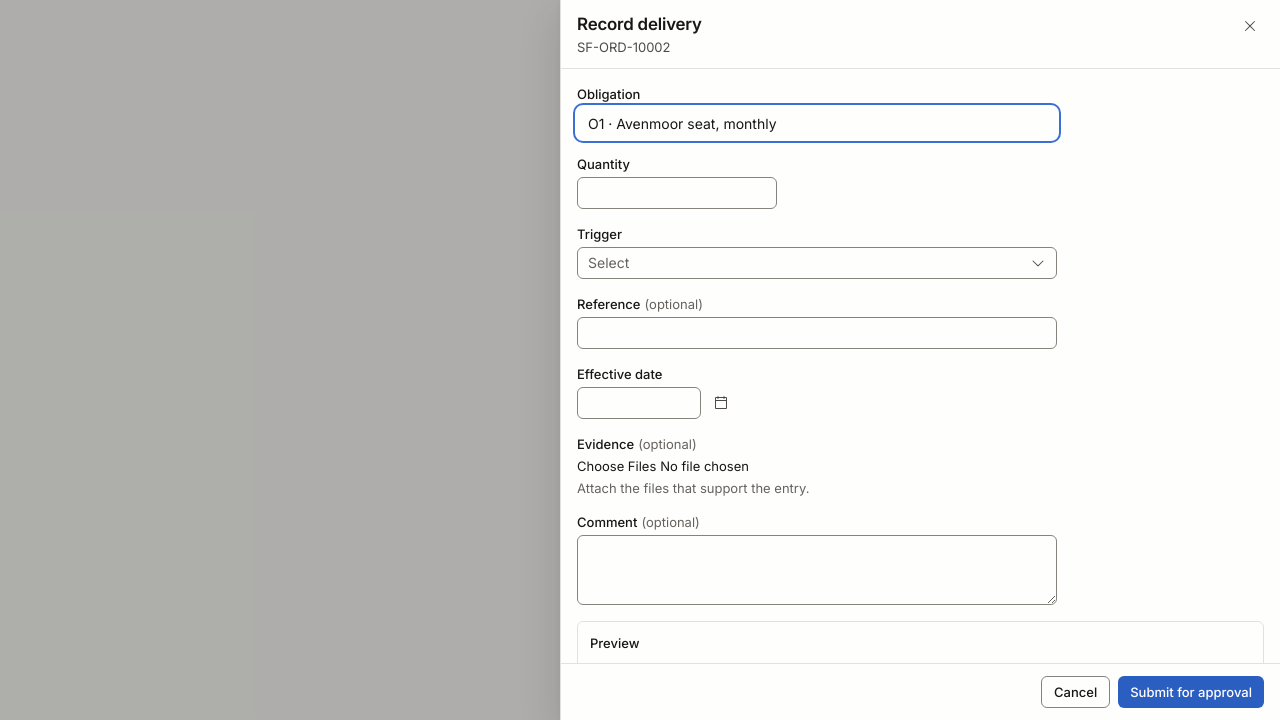
Test: SF-03 Record event: what the preview panel says of its dry run › a failed dry run shows the banner of a failed job with the problem's title, the reference and Retry, and no sentence about figures
The image size is (1280, 720).
expect the element "Preview" reads "Preview The preview appears once the fields are valid.": met, box [577,621,1264,663]
Type "120" into the field labelled "Quantity" at (677, 193), box [577,177,777,209]
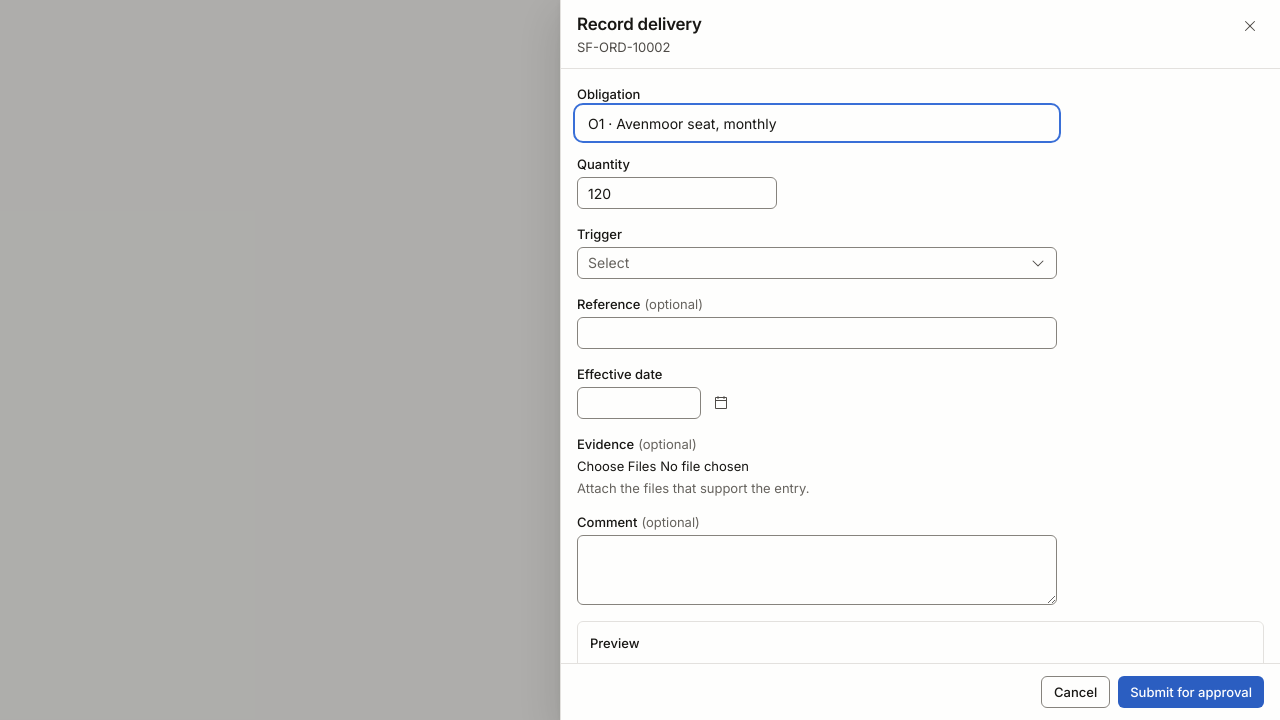
Click the dropdown named "Trigger" at (817, 263), box [577,247,1057,279]
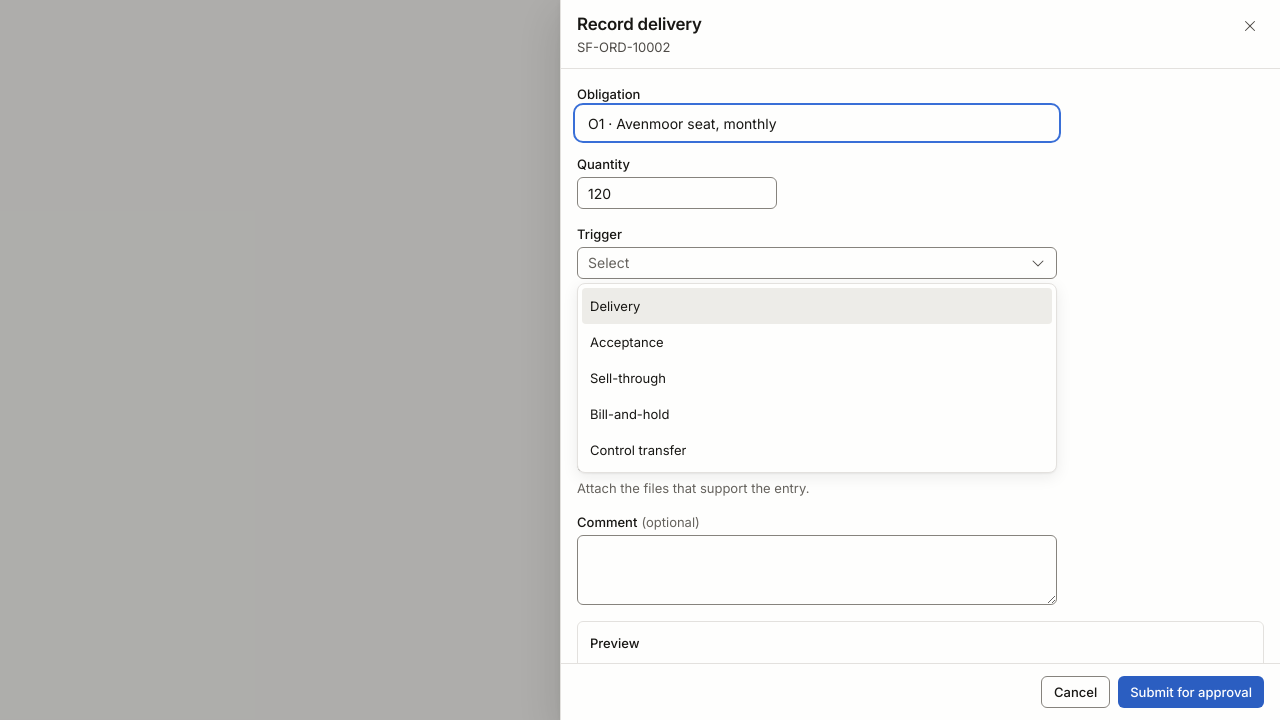
Press the mouse on the option "Delivery" at (615, 306), box [582,288,1052,324]
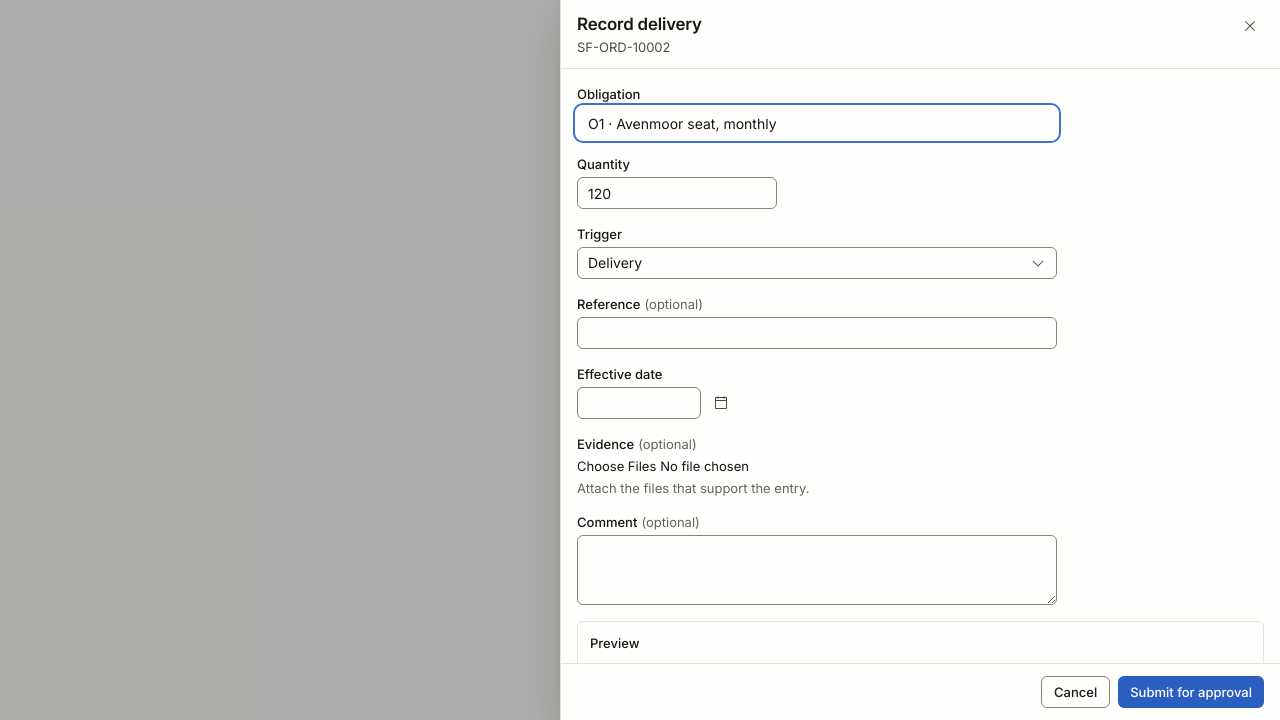
Type "30 Sep 2026" into the field labelled "Effective date" at (639, 403), box [577,387,701,419]
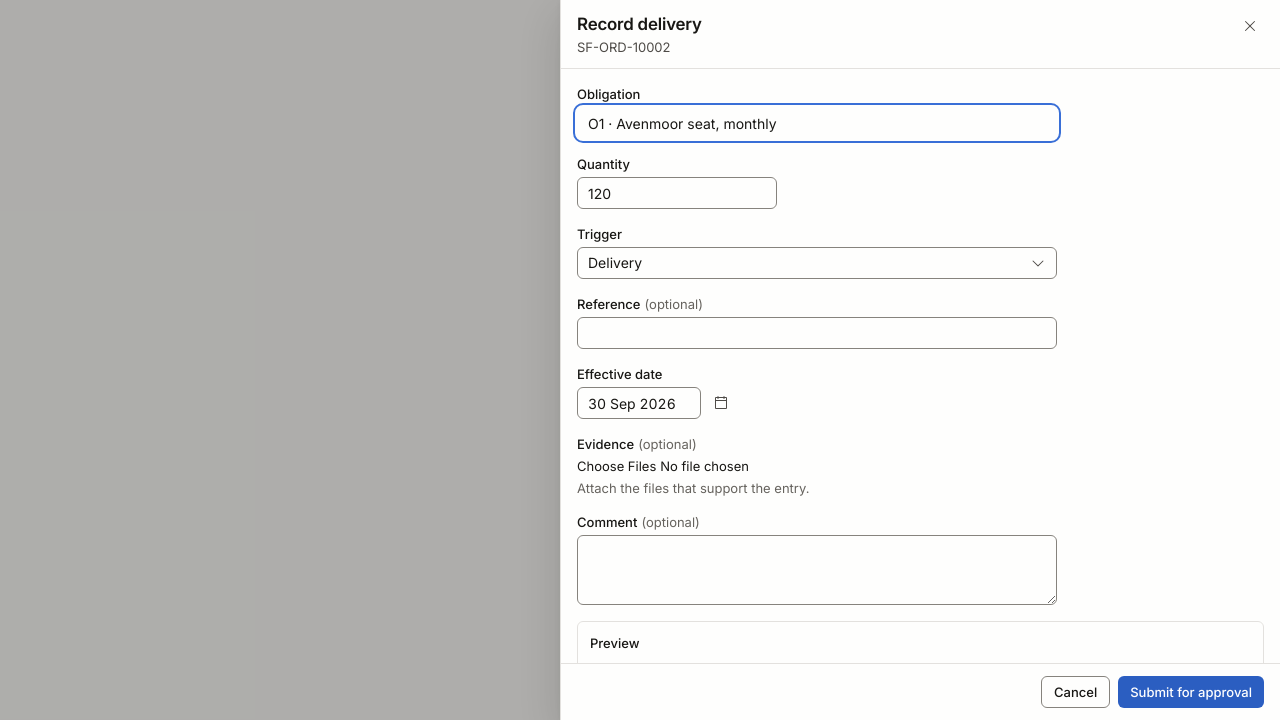
Leave the field labelled "Effective date", box [577,387,701,419]
(page scrolled)
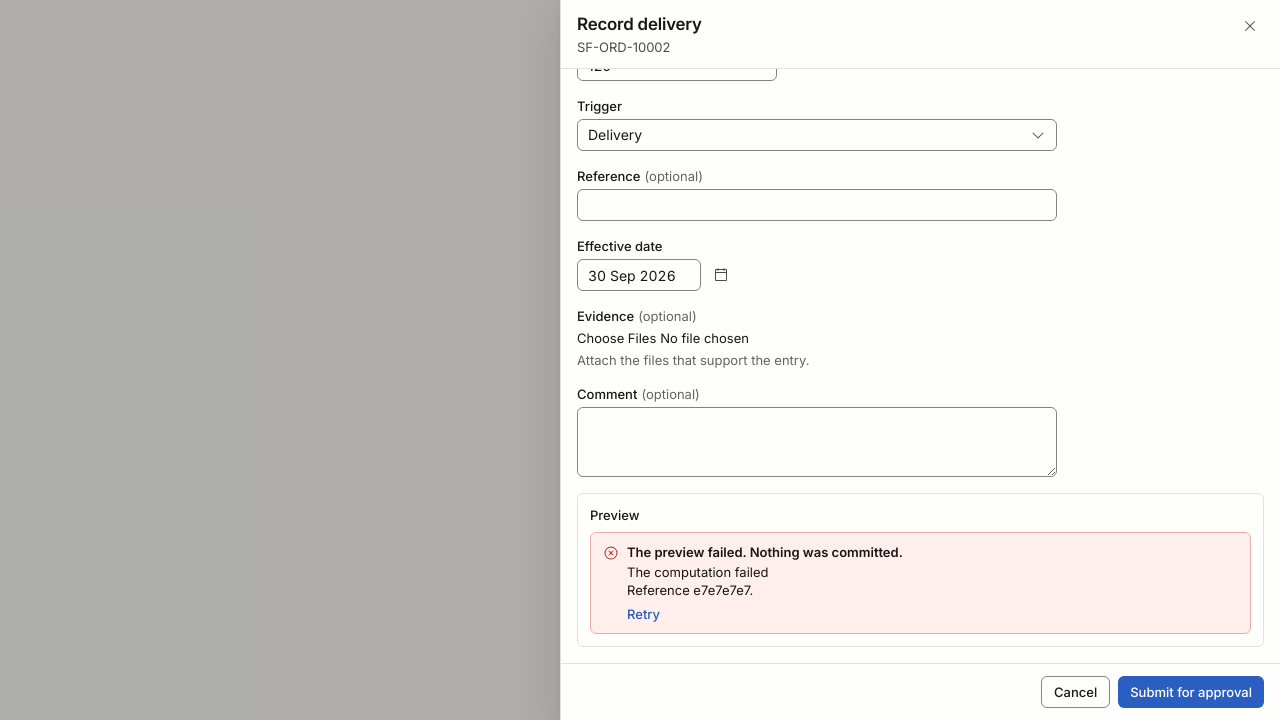
expect the button "Retry" is shown: met, box [627,605,660,623]
